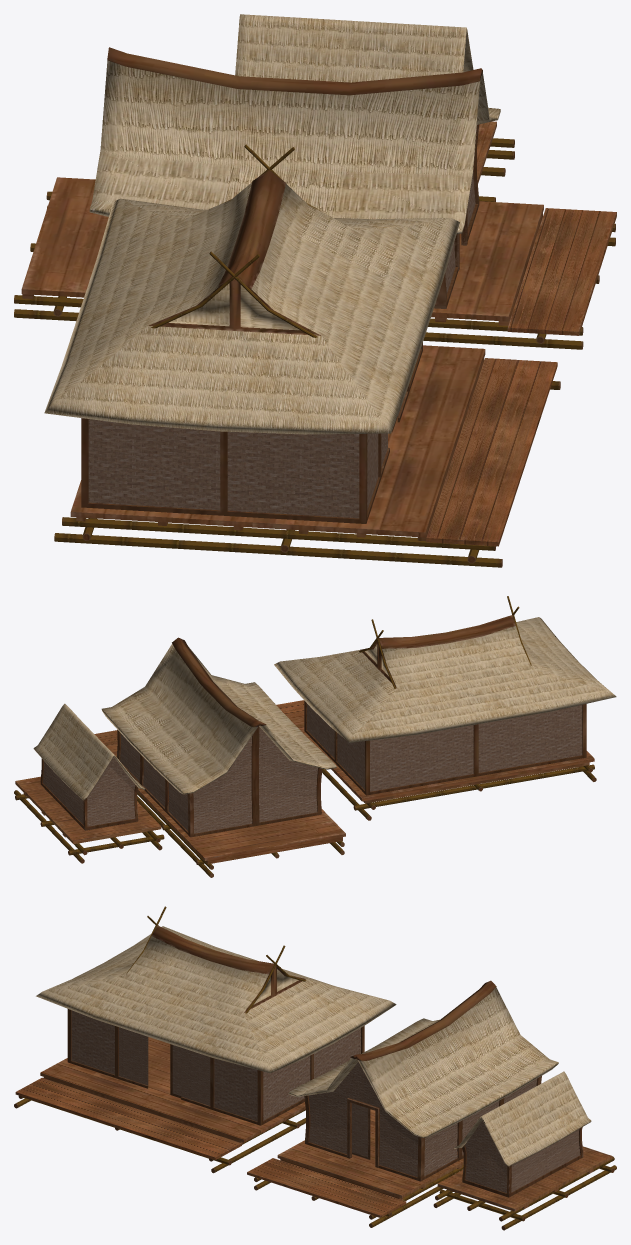
Rendered from nha-be.glb.
3 renders of one model, top to bottom at view 1: azimuth 30°, elevation 25°; view 2: azimuth 150°, elevation 25°; view 3: azimuth 270°, elevation 25°, orthographic. The views are drawn at different scales.
Visible parts, largest first — view 1: house 1 walls.008_Material.006_0, house 1 walls.008_house 1 walls.002_0, house 2 walls.007_house 2 foundation_0, house 1 walls.008_house 1 foundation_0, house 2 walls.007_house 2 terrace_0, house 1 walls.008_house 1 terrace_0, house 2 walls.007_house 2 roof_0, house 1 walls.008_house 1 roof_0, house 2 walls.007_house 2 walls_0, house 2 walls.007_house 2 bamboo c_0, house 2 walls.007_house 2 bamboo a_0, house 1 walls.008_house 1 bamboo c_0 (+3 smaller); view 2: house 1 walls.008_Material.006_0, house 1 walls.008_house 1 walls.002_0, house 1 walls.008_house 1 foundation_0, house 4 walls.006_house 4 foundation_0, house 2 walls.007_house 2 foundation_0, house 1 walls.008_house 1 walls_0, house 2 walls.007_house 2 walls_0, house 2 walls.007_house 2 roof_0, house 1 walls.008_house 1 roof_0, house 2 walls.007_house 2 bamboo b_0, house 4 walls.006_house 4 walls_0, house 4 walls.006_house 4 bamboo b_0 (+4 smaller); view 3: house 1 walls.008_Material.006_0, house 1 walls.008_house 1 walls.002_0, house 2 walls.007_house 2 foundation_0, house 2 walls.007_house 2 terrace_0, house 1 walls.008_house 1 foundation_0, house 1 walls.008_house 1 terrace_0, house 4 walls.006_house 4 foundation_0, house 2 walls.007_house 2 walls_0, house 2 walls.007_house 2 roof_0, house 1 walls.008_house 1 roof_0, house 1 walls.008_house 1 walls_0, house 1 walls.008_house 1 door_0 (+7 smaller).
Boxes of the visible parts, x1=… form: house 1 walls.008_Material.006_0: x1=44, y1=14, x2=500, y2=434; house 1 walls.008_house 1 walls.002_0: x1=88, y1=173, x2=475, y2=518; house 2 walls.007_house 2 foundation_0: x1=70, y1=345, x2=485, y2=541; house 1 walls.008_house 1 foundation_0: x1=21, y1=177, x2=543, y2=325; house 2 walls.007_house 2 terrace_0: x1=426, y1=358, x2=557, y2=546; house 1 walls.008_house 1 terrace_0: x1=507, y1=208, x2=616, y2=335; house 2 walls.007_house 2 roof_0: x1=149, y1=170, x2=320, y2=335; house 1 walls.008_house 1 roof_0: x1=107, y1=47, x2=482, y2=95; house 2 walls.007_house 2 walls_0: x1=81, y1=342, x2=422, y2=523; house 2 walls.007_house 2 bamboo c_0: x1=54, y1=381, x2=560, y2=567; house 2 walls.007_house 2 bamboo a_0: x1=62, y1=517, x2=496, y2=550; house 1 walls.008_house 1 bamboo c_0: x1=14, y1=205, x2=615, y2=349; house 1 walls.008_Material.006_0: x1=33, y1=617, x2=616, y2=800; house 1 walls.008_house 1 walls.002_0: x1=43, y1=675, x2=582, y2=833; house 1 walls.008_house 1 foundation_0: x1=107, y1=745, x2=345, y2=864; house 4 walls.006_house 4 foundation_0: x1=15, y1=776, x2=161, y2=844; house 2 walls.007_house 2 foundation_0: x1=288, y1=715, x2=594, y2=803; house 1 walls.008_house 1 walls_0: x1=116, y1=726, x2=322, y2=837; house 2 walls.007_house 2 walls_0: x1=304, y1=701, x2=586, y2=795; house 2 walls.007_house 2 roof_0: x1=360, y1=615, x2=515, y2=688; house 1 walls.008_house 1 roof_0: x1=172, y1=637, x2=266, y2=727; house 2 walls.007_house 2 bamboo b_0: x1=353, y1=764, x2=594, y2=810; house 4 walls.006_house 4 walls_0: x1=40, y1=758, x2=138, y2=830; house 4 walls.006_house 4 bamboo b_0: x1=15, y1=794, x2=164, y2=855; house 1 walls.008_Material.006_0: x1=36, y1=926, x2=591, y2=1166; house 1 walls.008_house 1 walls.002_0: x1=71, y1=1010, x2=580, y2=1192; house 2 walls.007_house 2 foundation_0: x1=40, y1=1037, x2=305, y2=1144; house 2 walls.007_house 2 terrace_0: x1=15, y1=1077, x2=241, y2=1159; house 1 walls.008_house 1 foundation_0: x1=277, y1=1109, x2=463, y2=1199; house 1 walls.008_house 1 terrace_0: x1=247, y1=1158, x2=406, y2=1217; house 4 walls.006_house 4 foundation_0: x1=437, y1=1146, x2=612, y2=1211; house 2 walls.007_house 2 walls_0: x1=67, y1=1009, x2=364, y2=1125; house 2 walls.007_house 2 roof_0: x1=151, y1=925, x2=305, y2=1012; house 1 walls.008_house 1 roof_0: x1=350, y1=980, x2=496, y2=1061; house 1 walls.008_house 1 walls_0: x1=304, y1=1076, x2=541, y2=1181; house 1 walls.008_house 1 door_0: x1=347, y1=1098, x2=379, y2=1167.
Bounding box in the file's own units: 0.8593 × 0.2837 × 1.
24 materials, 24 textured.
